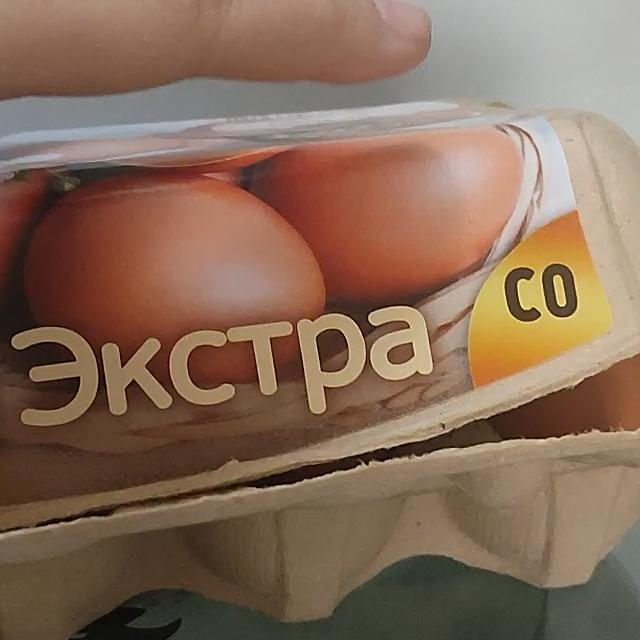egg: (0, 96, 640, 637)
